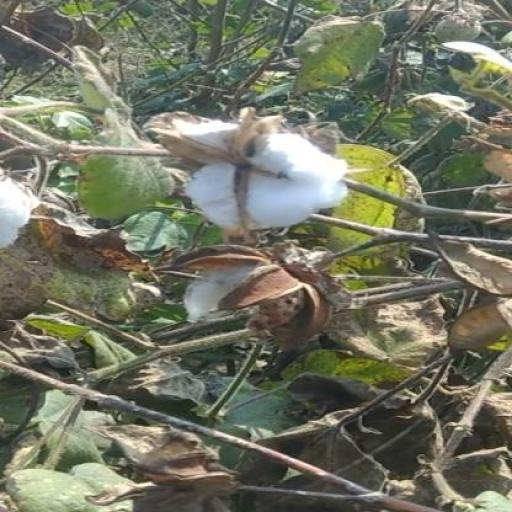cotton_ready: (144, 111, 352, 242)
